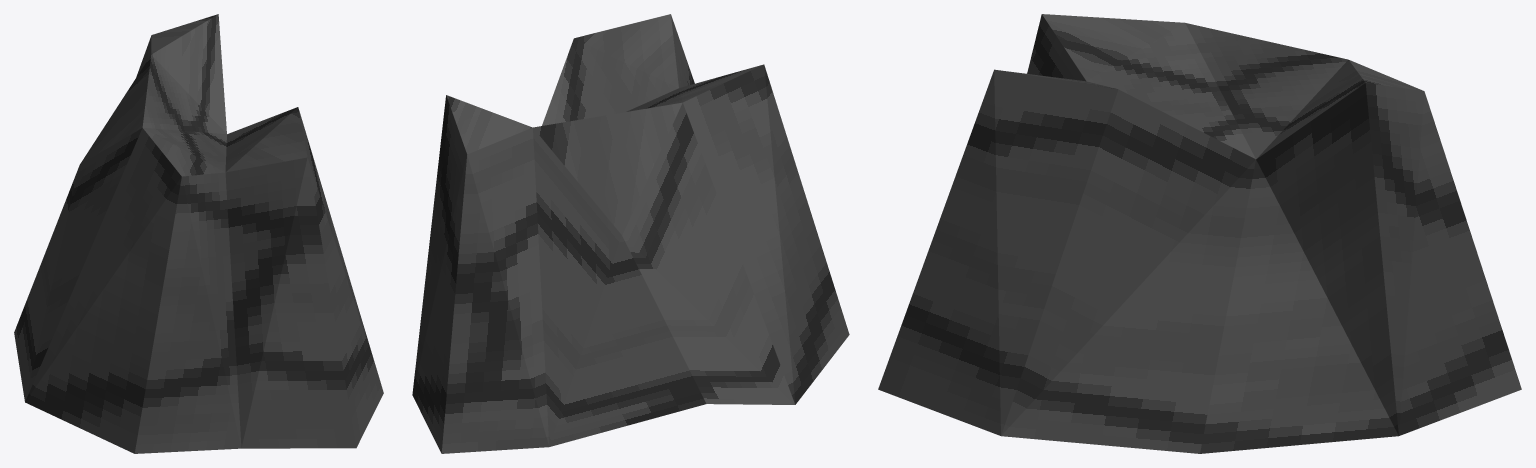
The model's file is ObjectStoneBoulder.dae.
3 renders of one model, left to right at view 1: azimuth 30°, elevation 25°; view 2: azimuth 150°, elevation 25°; view 3: azimuth 270°, elevation 25°, orthographic. The views are drawn at different scales.
Visible parts, largest first — view 1: Cylinder; view 2: Cylinder; view 3: Cylinder.
Part boxes in pixels (left/top/right/bottom): Cylinder: left=14, top=14, right=383, bottom=453; Cylinder: left=412, top=14, right=849, bottom=453; Cylinder: left=878, top=14, right=1521, bottom=453.
Bounding box in the file's own units: 6.1 × 8.9 × 5.31.
Materials: 1 (1 with a texture image).
